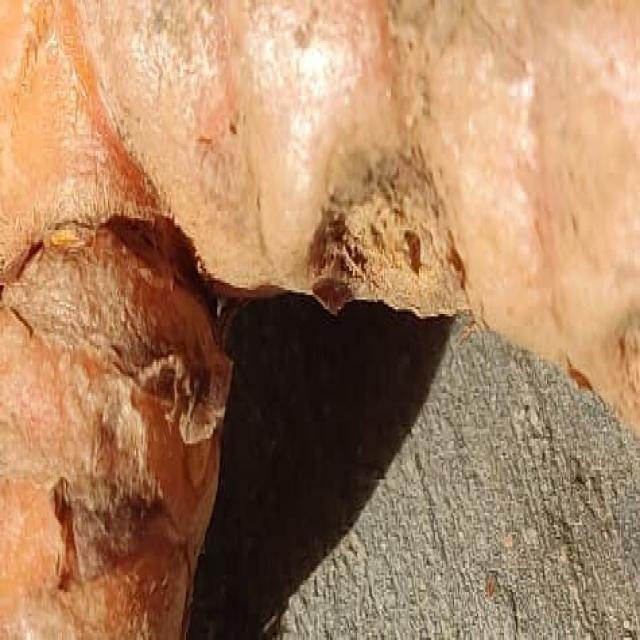ginger: (6, 0, 640, 434)
